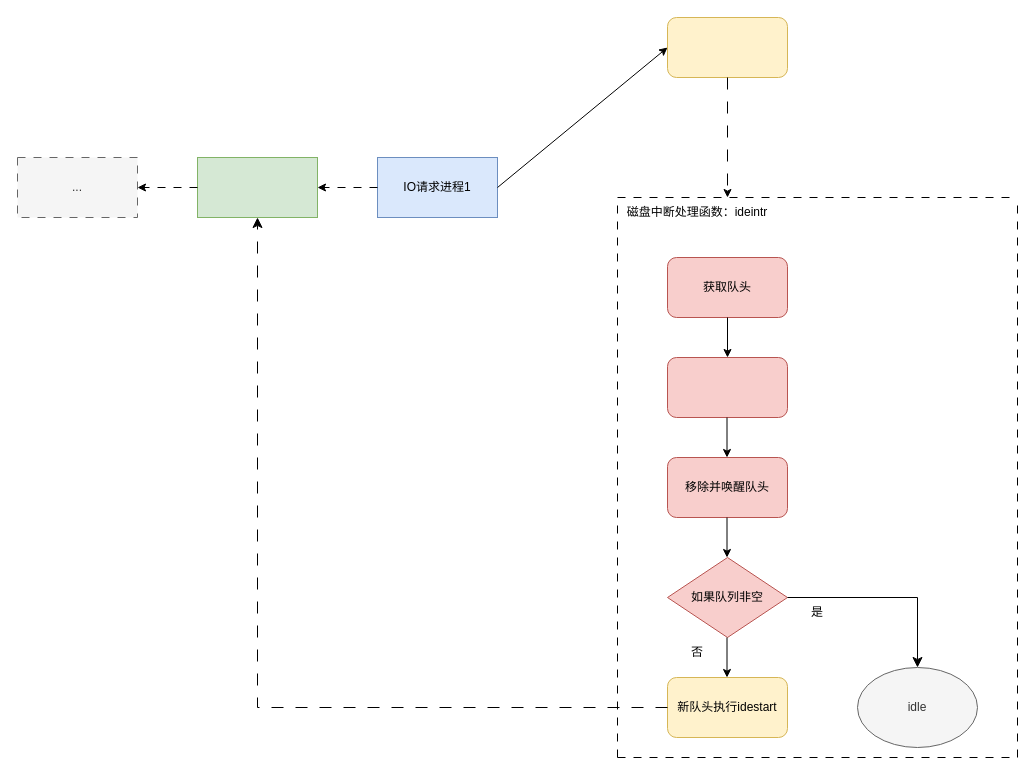
The diagram is 1036 pixels wide and 776 high, and some of its shapes have lost their labels. The box of each missing label's shape, as (x1, y1, x2, y2) in pixels:
idestart: (666, 16, 788, 78)
IO请求进程2: (196, 156, 318, 218)
标记IO结束: (666, 356, 788, 418)
